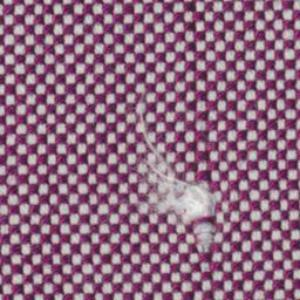fault: (120, 92, 229, 249)
